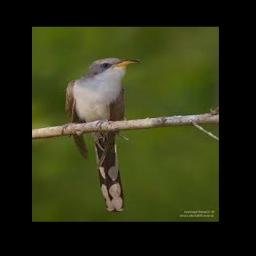Cuckoo: (65, 57, 141, 212)
